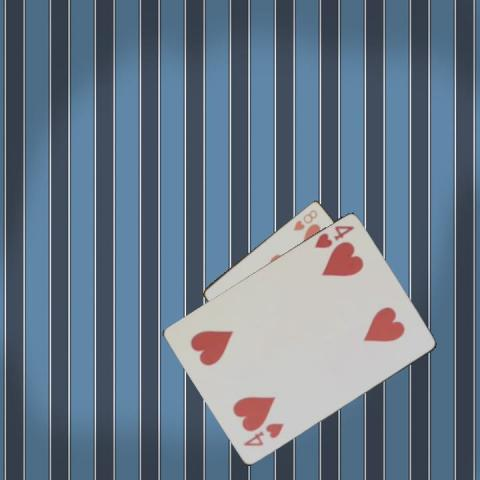4h: (240, 420, 285, 449), (311, 222, 356, 250)
8h: (290, 207, 319, 232)
